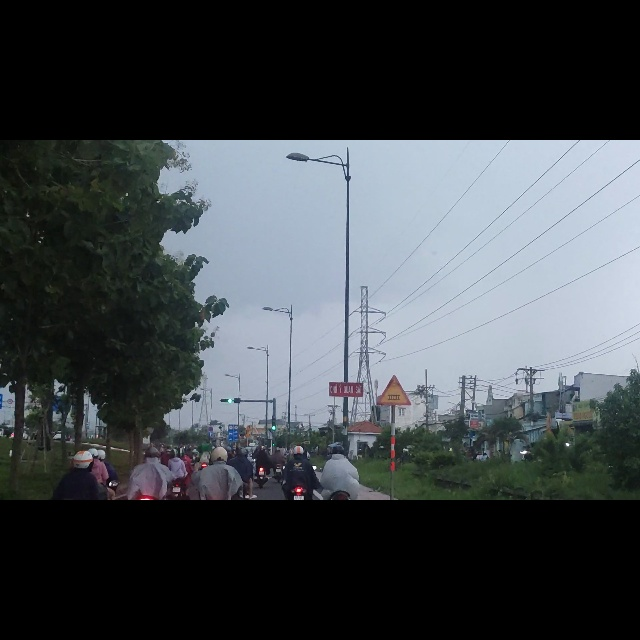bien_nguy_hiem: (378, 416, 412, 473)
